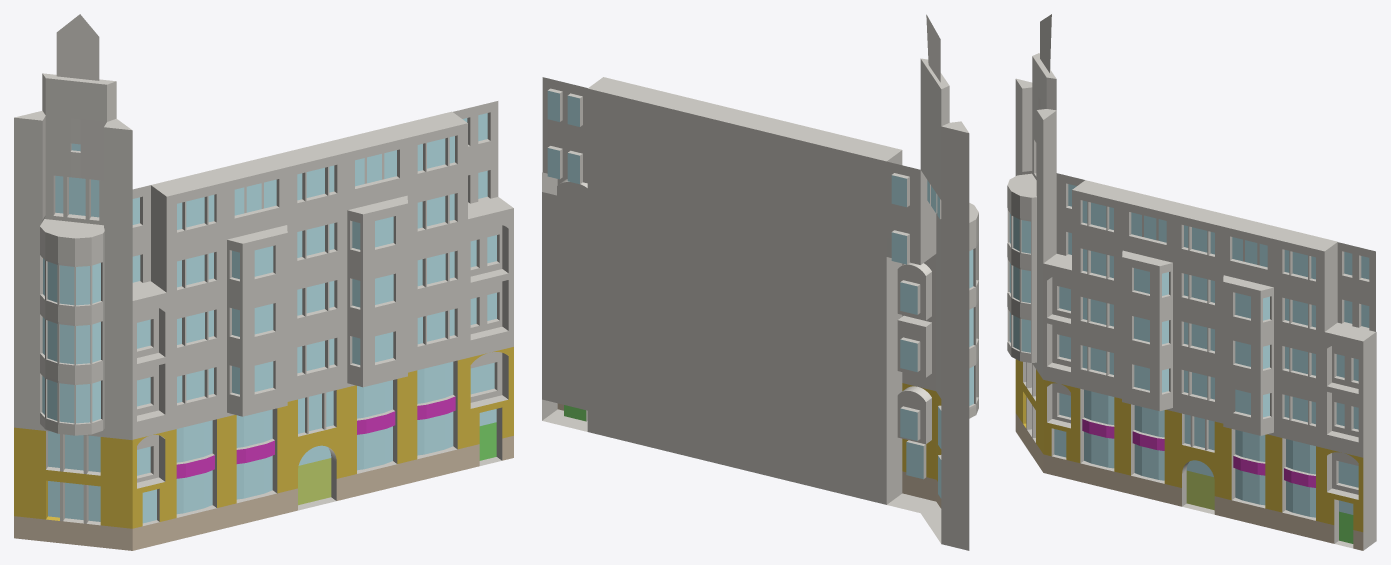
Rendered from Дом Пашенина Артёма.fbx.
The picture shows the model from 3 angles, left to right: view 1: azimuth 30°, elevation 25°; view 2: azimuth 150°, elevation 25°; view 3: azimuth 330°, elevation 25°; orthographic projection. The views are drawn at different scales.
Parts seen in each view (by area): view 1: дом; view 2: дом; view 3: дом.
Part boxes in pixels (x1,y1,x2,y2): дом: (14, 14, 513, 550); дом: (542, 14, 978, 550); дом: (1007, 14, 1376, 550).
Bounding box in the file's own units: 3734 × 4053 × 717.
